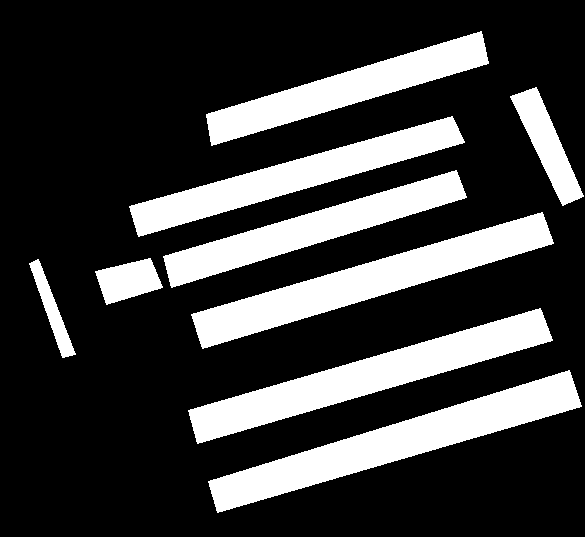parkingspot: (207, 370, 581, 513), (190, 212, 553, 349), (187, 308, 552, 444), (128, 116, 464, 237), (162, 170, 466, 288), (205, 31, 488, 146), (509, 87, 583, 206), (28, 259, 75, 358), (94, 258, 162, 305)
